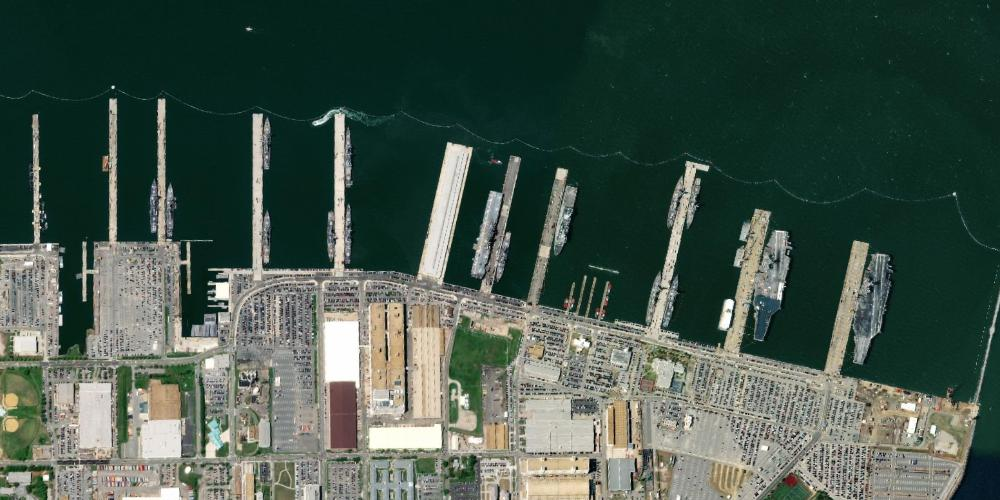amphiby: (554, 181, 580, 262)
destroyer: (262, 113, 279, 172), (261, 209, 275, 266), (342, 202, 354, 267), (344, 125, 354, 190), (326, 209, 335, 259)
fregate: (667, 169, 685, 229), (689, 173, 706, 236), (644, 269, 663, 324), (662, 272, 679, 329), (146, 177, 162, 235), (164, 184, 179, 239)
pha: (472, 189, 503, 278)
